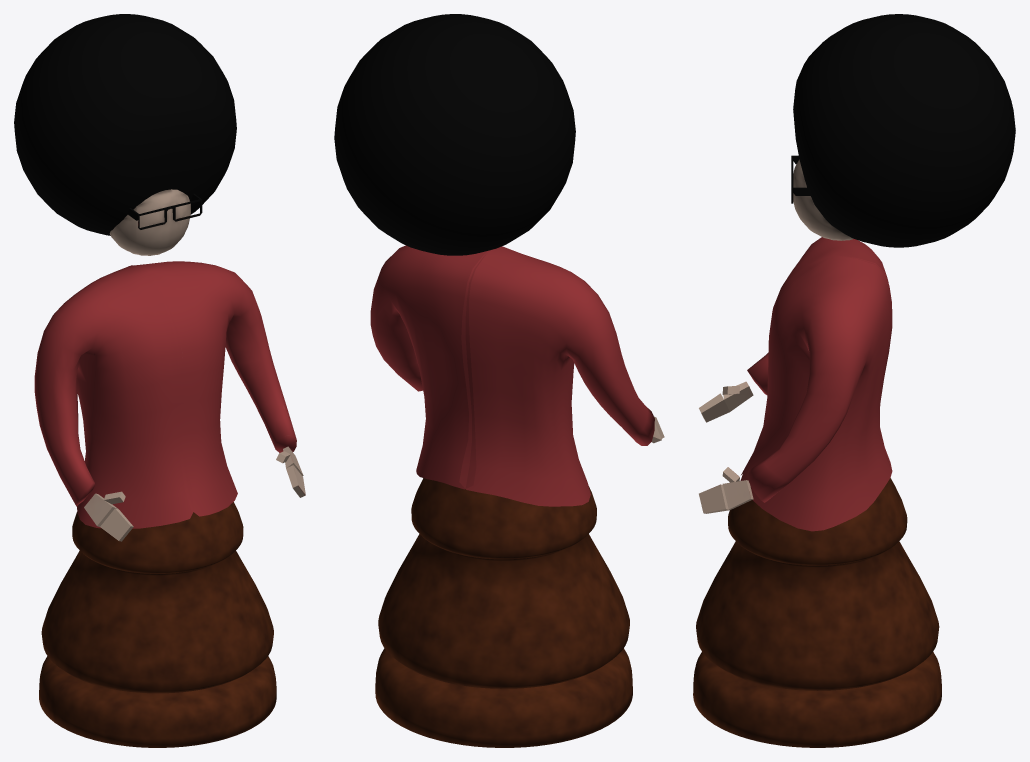
File: joost_pawn.fbx
3 renders of one model, left to right at view 1: azimuth 30°, elevation 25°; view 2: azimuth 150°, elevation 25°; view 3: azimuth 270°, elevation 25°, orthographic. The views are drawn at different scales.
Parts seen in each view (by area): view 1: bake.001; view 2: bake.001; view 3: bake.001.
Part boxes in pixels (box(x1,y1,x2,y2)): bake.001: box(14, 14, 305, 747); bake.001: box(334, 14, 664, 747); bake.001: box(693, 14, 1015, 747).
Size of the model in its own units: 219 by 582 by 253.
1 material, 1 textured.
